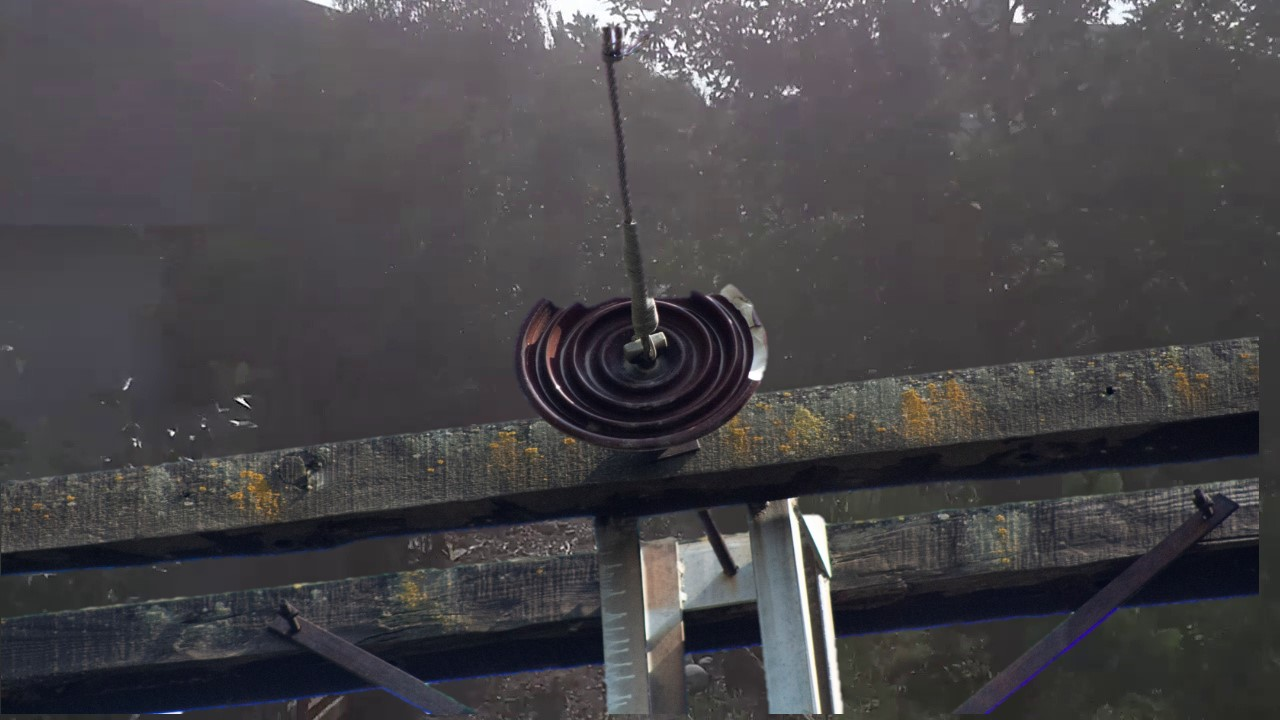defect_disc: (511, 283, 776, 459)
